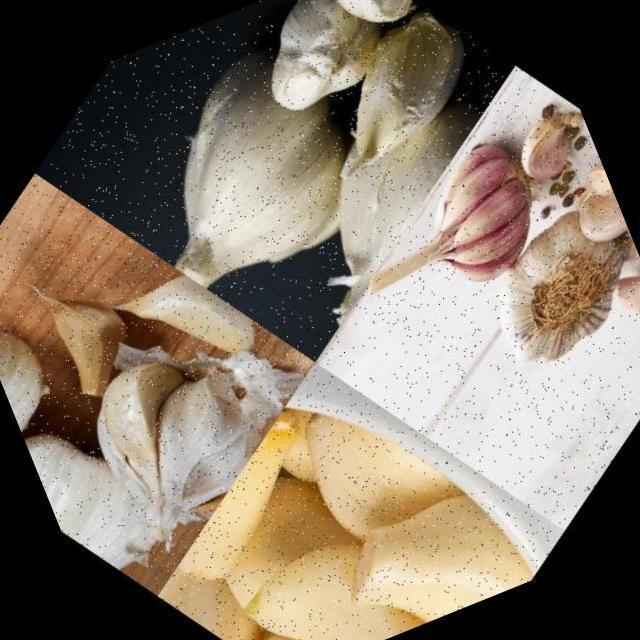garlic: (101, 306, 570, 640), (70, 1, 447, 372), (203, 14, 569, 346), (15, 286, 318, 586), (323, 100, 613, 379), (434, 173, 640, 411), (278, 0, 511, 202), (11, 364, 198, 596), (106, 222, 284, 414), (218, 0, 419, 152), (0, 243, 164, 427), (0, 258, 99, 463), (539, 147, 640, 314), (492, 97, 596, 200), (302, 0, 431, 67), (587, 246, 640, 341)
